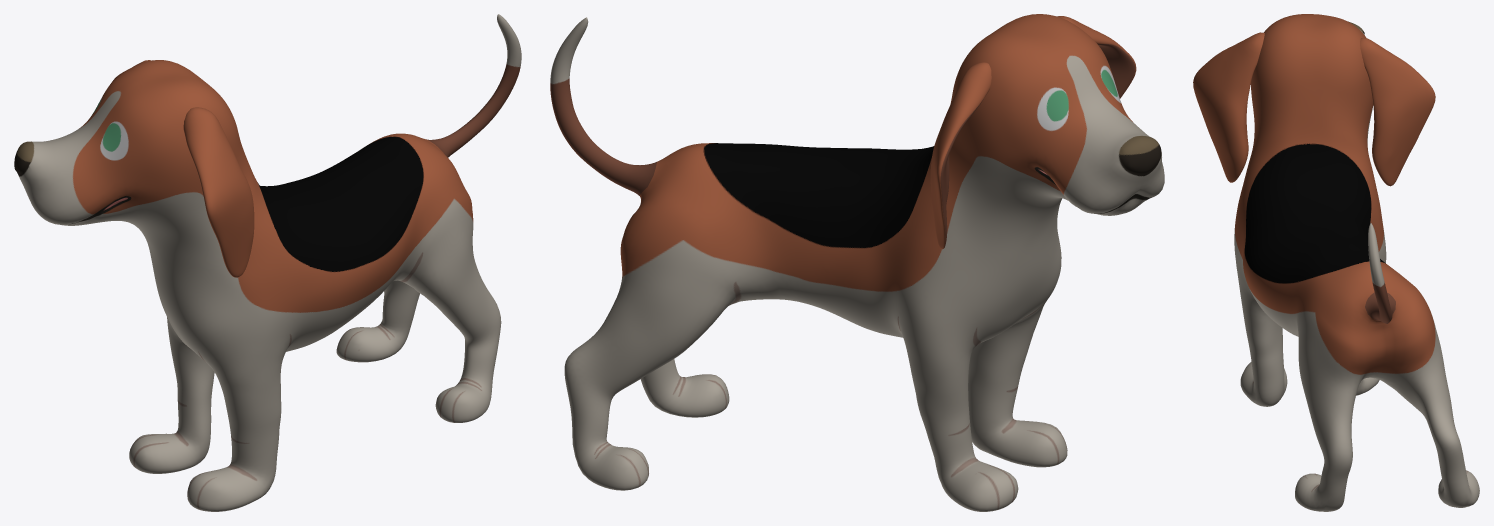
The model's file is dog.glb.
3 views of the same model, side by side, from view 1: azimuth 30°, elevation 25°; view 2: azimuth 150°, elevation 25°; view 3: azimuth 270°, elevation 25° (orthographic). The views are drawn at different scales.
Parts seen in each view (by area): view 1: node_id30; view 2: node_id30; view 3: node_id30.
Boxes of the visible parts, x1=… form: node_id30: x1=14, y1=14, x2=521, y2=511; node_id30: x1=550, y1=14, x2=1164, y2=511; node_id30: x1=1193, y1=14, x2=1479, y2=511.
Size of the model in its own units: 0.6778 by 0.512 by 0.3733.
Materials: 1 (1 with a texture image).
